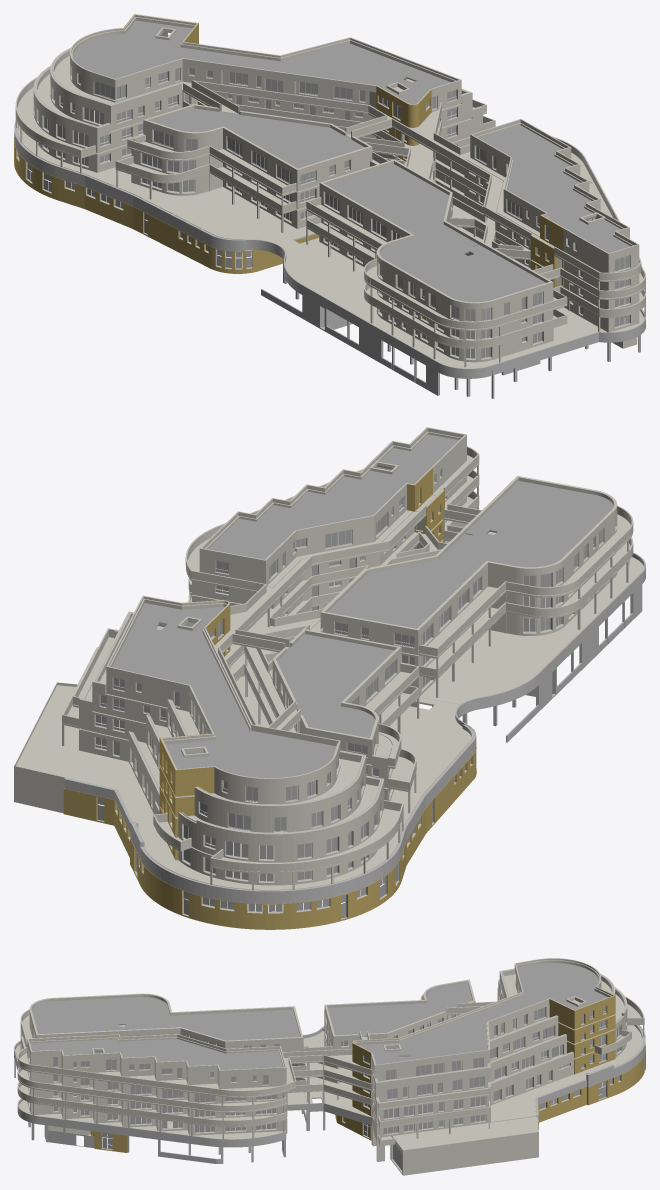
The model's file is ostwall_terrassen.glb.
The picture shows the model from 3 angles, top to bottom: view 1: azimuth 30°, elevation 25°; view 2: azimuth 150°, elevation 25°; view 3: azimuth 270°, elevation 25°; orthographic projection. The views are drawn at different scales.
Visible parts, largest first — view 1: world; view 2: world; view 3: world.
Boxes of the visible parts, x1,y1,x2,y2 form: world: (14,14,645,398); world: (14,427,645,929); world: (14,958,645,1175).
Bounding box in the file's own units: 66.31 × 18.13 × 119.
